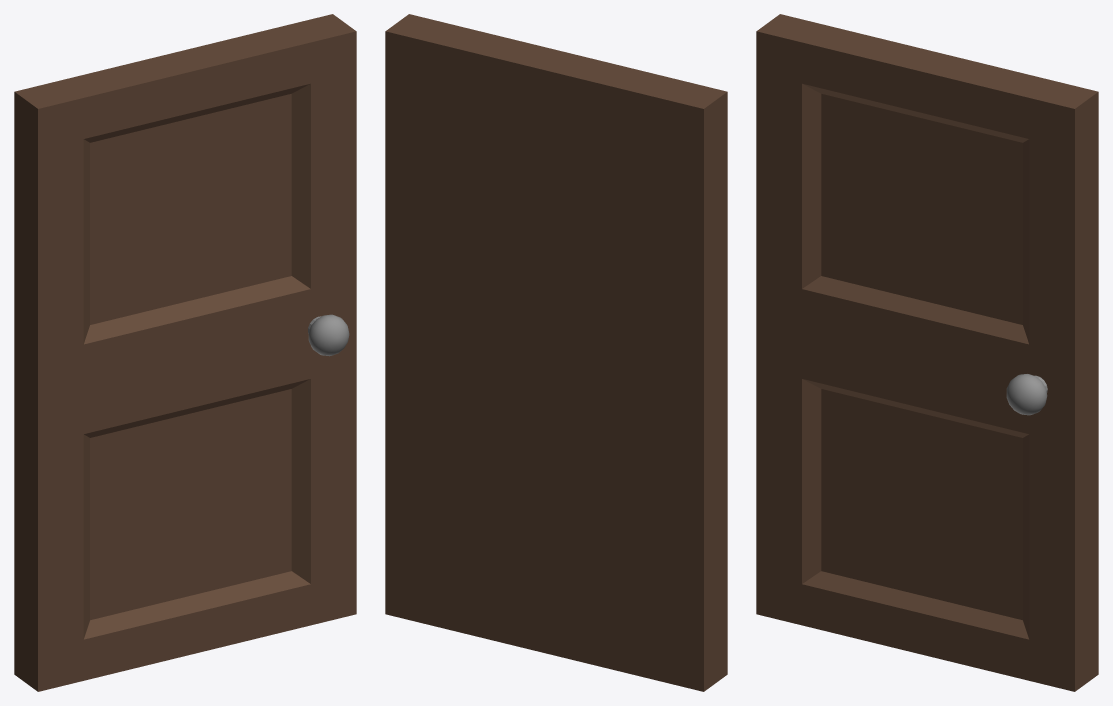
The model's file is door_v1.fbx.
3 views of the same model, side by side, from view 1: azimuth 30°, elevation 25°; view 2: azimuth 150°, elevation 25°; view 3: azimuth 330°, elevation 25° (orthographic).
Parts seen in each view (by area): view 1: door; view 2: door; view 3: door.
Boxes of the visible parts, box(x1,y1,x2,y2) form: door: box(14, 14, 356, 691); door: box(385, 14, 727, 691); door: box(756, 14, 1098, 691).
Size of the model in its own units: 1.38 by 2.41 by 0.3215.
Materials: 1 (1 with a texture image).
